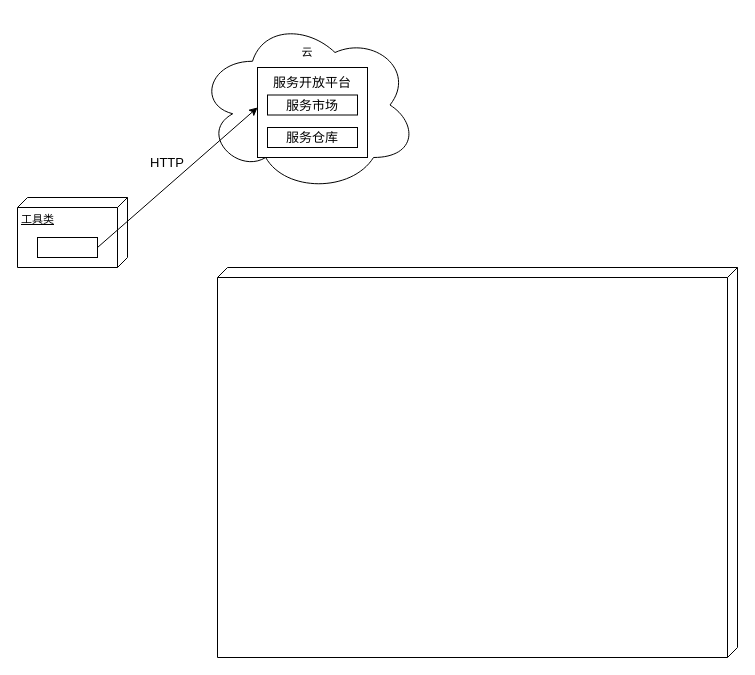
Image size: 755x675. Some labels were removed from this diagram. The centre of each missing label's shape, as x and y in pixels:
"UPK IDE" goes at pixel 67 247.
"设备端" goes at pixel 477 462.
